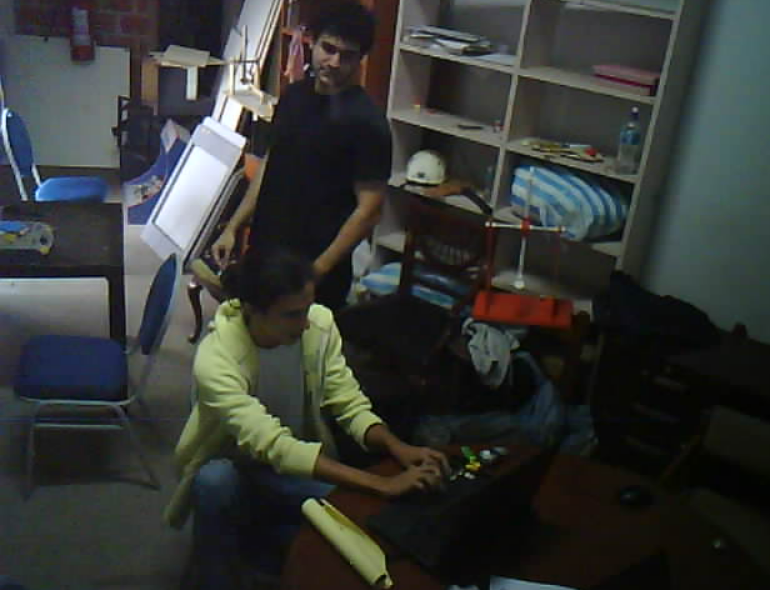person: (156, 246, 463, 590), (204, 0, 396, 309)
